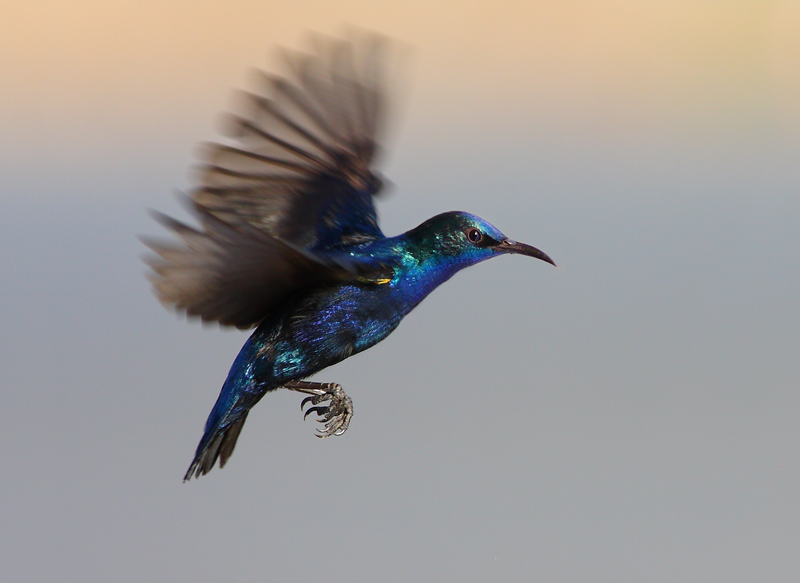bird: (138, 11, 565, 492)
